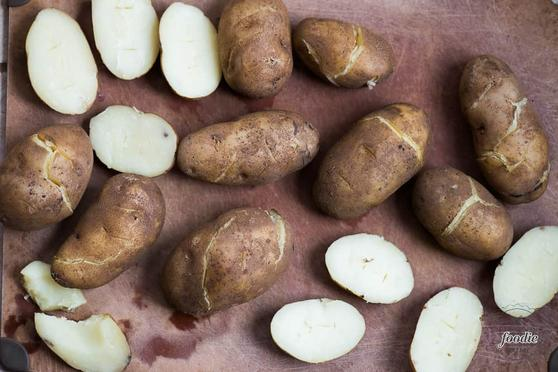potato: (444, 46, 558, 201), (320, 100, 442, 233), (177, 107, 321, 189), (411, 161, 514, 264), (57, 179, 162, 277), (1, 118, 89, 231), (211, 3, 303, 95)
